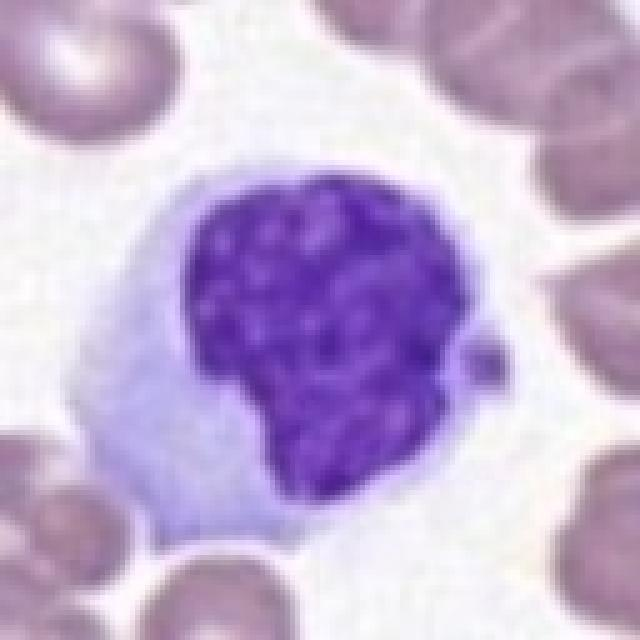lympho: (57, 154, 513, 546)
